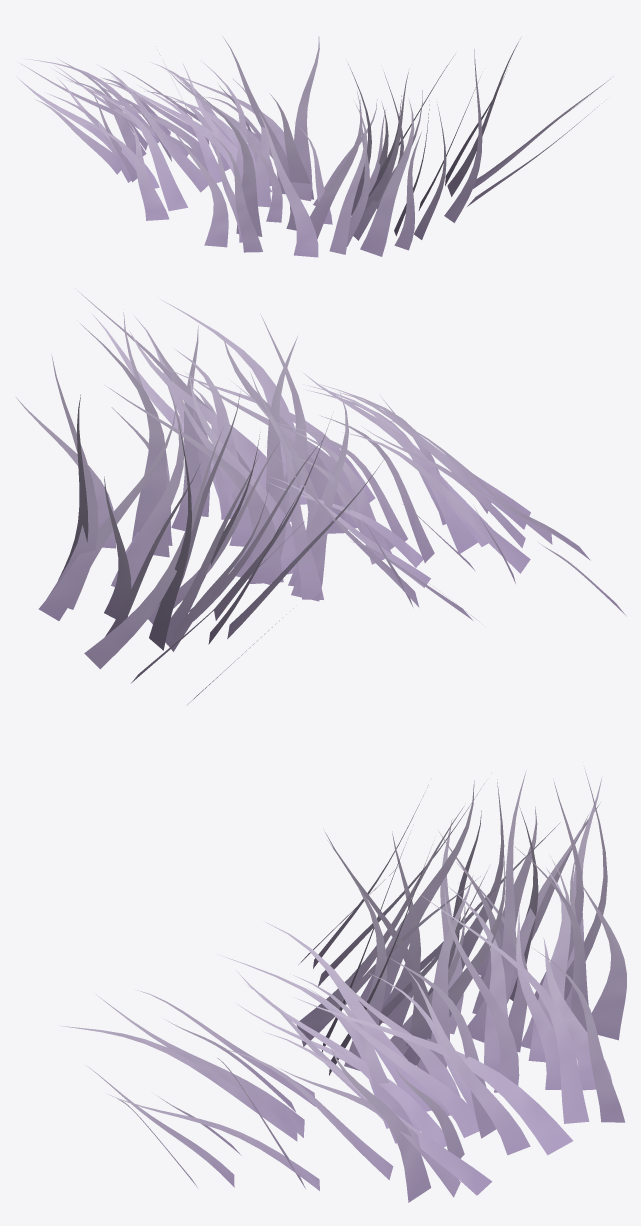
Rendered from mesh-plant-015-shadowmoss-tuft_LOD0.glb.
3 renders of one model, top to bottom at view 1: azimuth 30°, elevation 25°; view 2: azimuth 150°, elevation 25°; view 3: azimuth 270°, elevation 25°, orthographic. The views are drawn at different scales.
Visible parts, largest first — view 1: geometry_0; view 2: geometry_0; view 3: geometry_0.
Part boxes in pixels (x1,y1,x2,y2): geometry_0: [16, 36, 613, 257]; geometry_0: [16, 288, 626, 704]; geometry_0: [59, 768, 626, 1202].
Size of the model in its own units: 1.51 by 0.3833 by 1.11.
